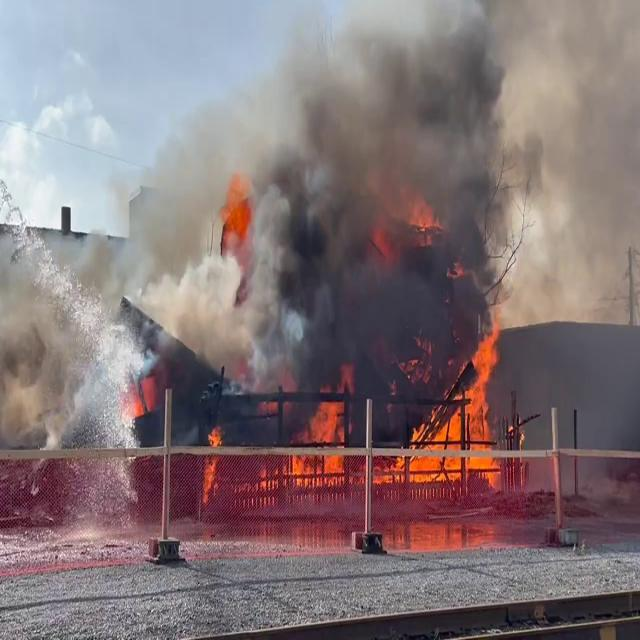Fire: (403, 323, 510, 485), (286, 376, 352, 490), (196, 417, 225, 499)
Smoke: (140, 3, 528, 414), (0, 210, 144, 477)
